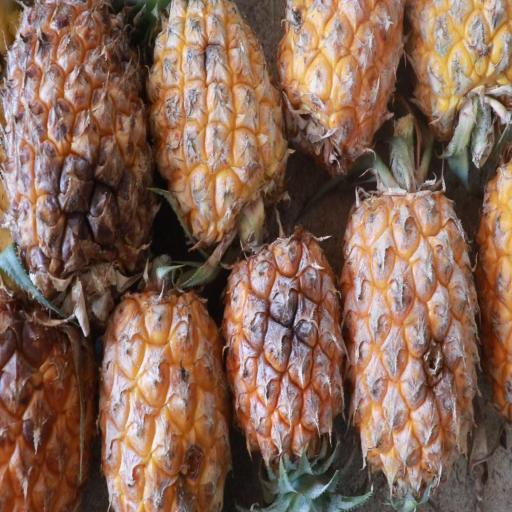Pineapple - v8 v1: (1, 0, 154, 304), (342, 178, 484, 497), (145, 0, 288, 246), (98, 275, 232, 512), (222, 230, 349, 469), (0, 293, 103, 512), (277, 0, 406, 172), (408, 1, 512, 167)
